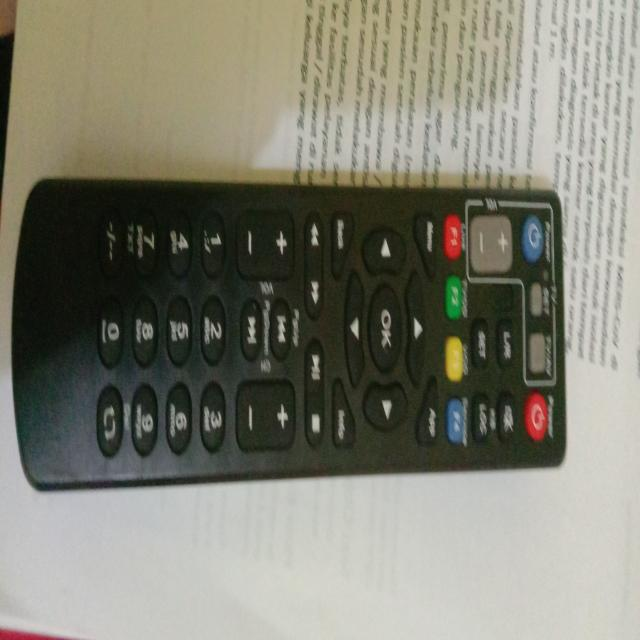remote: (14, 177, 565, 490)
